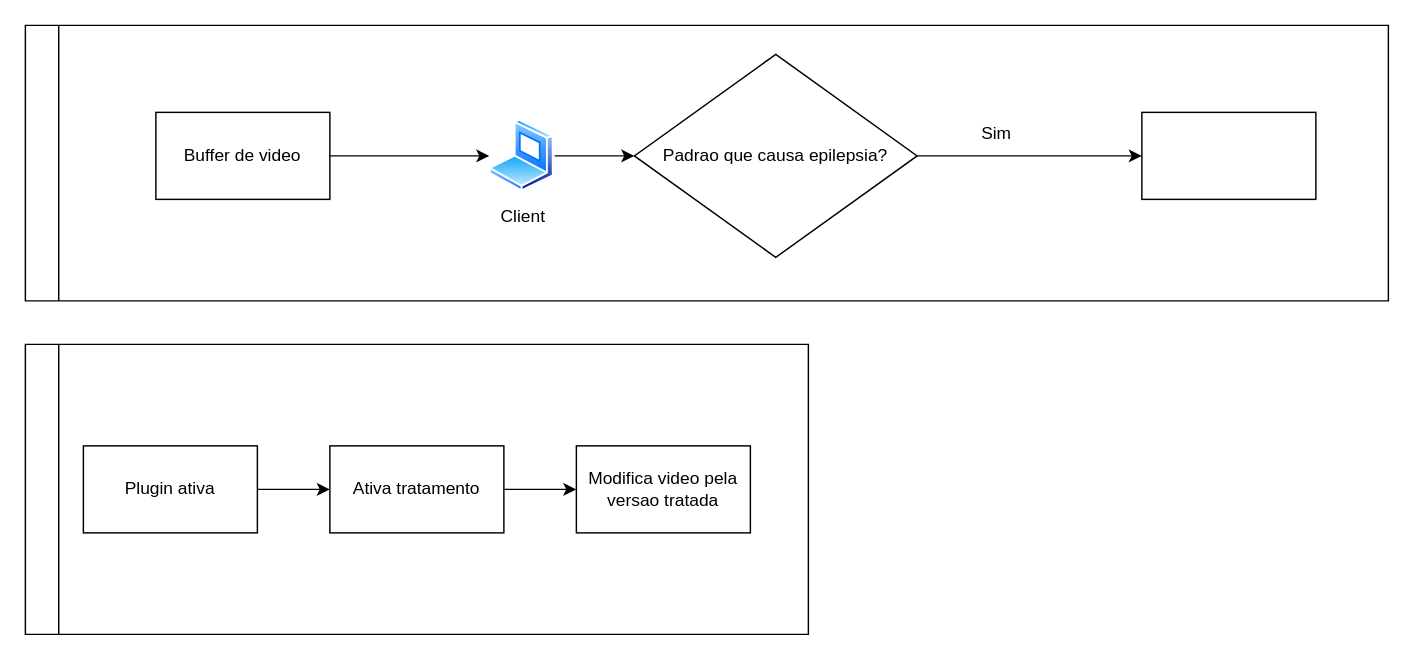
Some shapes in this 1414 by 660 pixel diagram are drawn without their labels. The box of each missing label's shape, as (x1, y1, x2, y2) in pixels:
Ativa plugin: (1140, 111, 1316, 199)
Fluxo completo: (24, 24, 1388, 301)
Fluxo do plugin: (24, 343, 808, 634)
